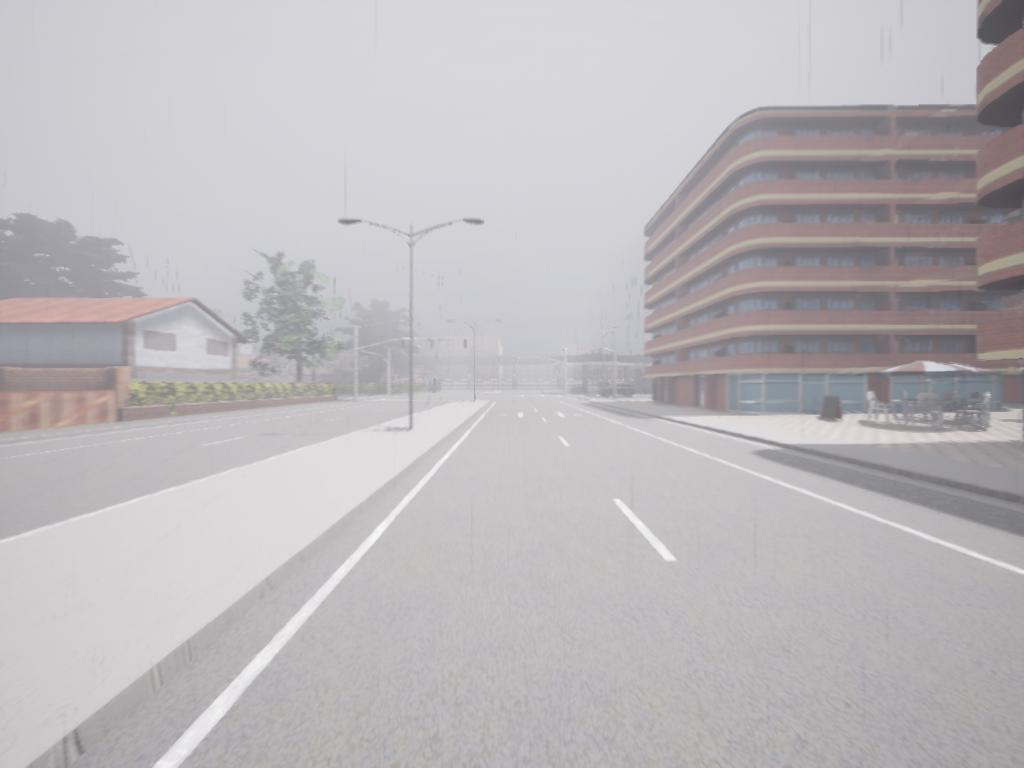traffic_light: (430, 339, 436, 350), (464, 340, 469, 352), (401, 340, 407, 350)
